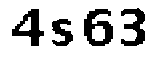3: (121, 6, 149, 52)
4: (10, 5, 49, 50)
6: (80, 5, 118, 50)
s: (50, 17, 76, 49)
